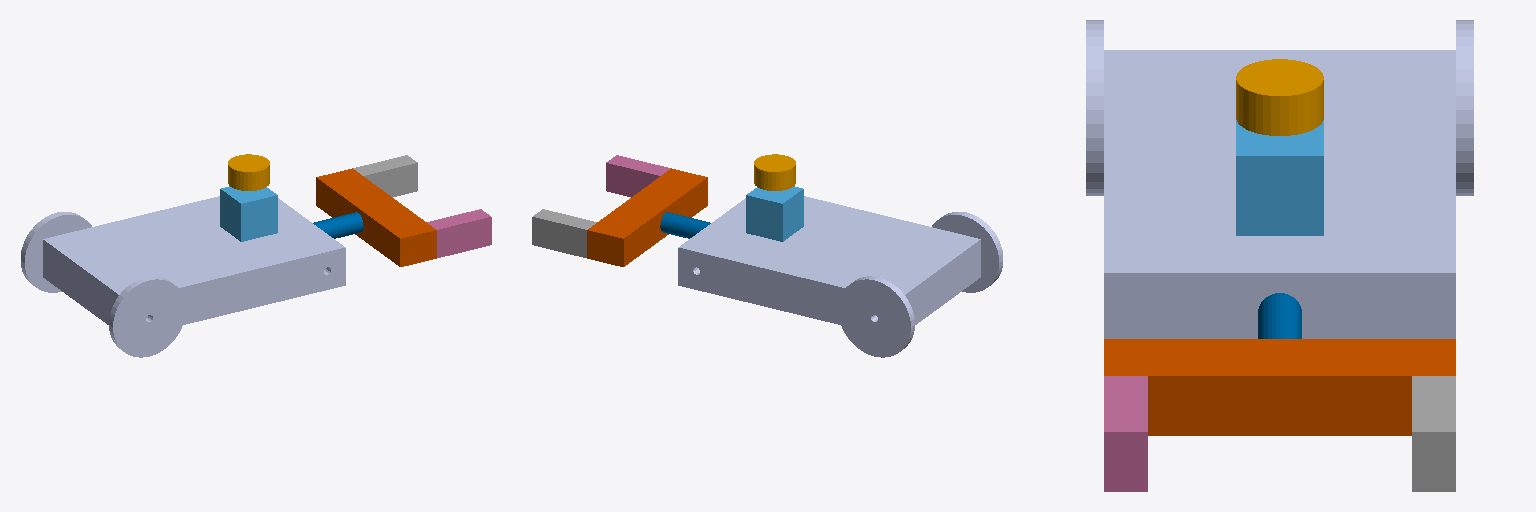
robot.urdf — my_robot:
<?xml version="1.0" encoding="utf-8"?>
<!-- This URDF was automatically created by SolidWorks to URDF Exporter! Originally created by [author] ([email redacted]) 
     Commit Version: 1.6.0-1-g15f4949  Build Version: 1.6.7594.29634
     For more information, please see http://wiki.ros.org/sw_urdf_exporter -->
<robot
  name="my_robot">

  <gazebo reference="base_link">
    <material>Gazebo/Orange</material>
  </gazebo>
  <gazebo reference="Left_Link">
    <material>Gazebo/SkyBlue</material>
  </gazebo>
  <gazebo reference="Right_Link">
    <material>Gazebo/SkyBlue</material>
  </gazebo>
  <gazebo reference="Sensor_Laser">
    <material>Gazebo/SkyBlue</material>
  </gazebo>

  <link
    name="base_link">
    <inertial>
      <origin
        xyz="-0.001672 -1.1716E-17 0.050348"
        rpy="0 0 0" />
      <mass
        value="5" />
      <inertia
        ixx="0.33621"
        ixy="1.0274E-16"
        ixz="-0.0012409"
        iyy="0.7179"
        iyz="1.369E-17"
        izz="1.0147" />
    </inertial>
    <visual>
      <origin
        xyz="0 0 0"
        rpy="0 0 0" />
      <geometry>
        <mesh
          filename="package://auto_test/meshes/base_link.STL" />
      </geometry>
      <material
        name="">
        <color
          rgba="0.79216 0.81961 0.93333 1" />
      </material>
    </visual>
    <collision>
      <origin
        xyz="0 0 0"
        rpy="0 0 0" />
      <geometry>
        <mesh
          filename="package://auto_test/meshes/base_link.STL" />
      </geometry>
    </collision>
  </link>
  <link
    name="Left_Link">
    <inertial>
      <origin
        xyz="-0.01 0 -5.5511E-17"
        rpy="0 0 0" />
      <mass
        value="0.62204" />
      <inertia
        ixx="0.0031413"
        ixy="4.4128E-20"
        ixz="1.7802E-20"
        iyy="0.0015914"
        iyz="1.3553E-19"
        izz="0.0015914" />
    </inertial>
    <visual>
      <origin
        xyz="0 0 0"
        rpy="0 0 0" />
      <geometry>
        <mesh
          filename="package://auto_test/meshes/L_Link.STL" />
      </geometry>
      <material
        name="">
        <color
          rgba="0.79216 0.81961 0.93333 1" />
      </material>
    </visual>
    <collision>
      <origin
        xyz="0 0 0"
        rpy="0 0 0" />
      <geometry>
        <mesh
          filename="package://auto_test/meshes/L_Link.STL" />
      </geometry>
    </collision>
  </link>
  <joint
    name="Left_Joint"
    type="continuous">
    <origin
      xyz="-0.25 -0.2 0.05"
      rpy="1.7983 0 1.5708" />
    <parent
      link="base_link" />
    <child
      link="Left_Link" />
    <axis
      xyz="1 0 0" />
  </joint>
  <link
    name="Right_Link">
    <inertial>
      <origin
        xyz="0.01 0 -5.5511E-17"
        rpy="0 0 0" />
      <mass
        value="0.62204" />
      <inertia
        ixx="0.0031413"
        ixy="3.9891E-20"
        ixz="9.4367E-21"
        iyy="0.0015914"
        iyz="1.3553E-19"
        izz="0.0015914" />
    </inertial>
    <visual>
      <origin
        xyz="0 0 0"
        rpy="0 0 0" />
      <geometry>
        <mesh
          filename="package://auto_test/meshes/R_Link.STL" />
      </geometry>
      <material
        name="">
        <color
          rgba="0.79216 0.81961 0.93333 1" />
      </material>
    </visual>
    <collision>
      <origin
        xyz="0 0 0"
        rpy="0 0 0" />
      <geometry>
        <mesh
          filename="package://auto_test/meshes/R_Link.STL" />
      </geometry>
    </collision>
  </link>
  <joint
    name="Right_Joint"
    type="continuous">
    <origin
      xyz="-0.25 0.2 0.05"
      rpy="1.7983 0 1.5708" />
    <parent
      link="base_link" />
    <child
      link="Right_Link" />
    <axis
      xyz="1 0 0" />
  </joint>
  <link
    name="Castor_Link">
    <inertial>
      <origin
        xyz="7.043E-16 -7.3552E-16 5.2736E-16"
        rpy="0 0 0" />
      <mass
        value="0.5236" />
      <inertia
        ixx="0.0005236"
        ixy="-1.3553E-20"
        ixz="0"
        iyy="0.0005236"
        iyz="2.7105E-20"
        izz="0.0005236" />
    </inertial>
    <visual>
      <origin
        xyz="0 0 0"
        rpy="0 0 0" />
      <geometry>
        <mesh
          filename="package://auto_test/meshes/Castor_Link.STL" />
      </geometry>
      <material
        name="">
        <color
          rgba="0.79216 0.81961 0.93333 1" />
      </material>
    </visual>
    <collision>
      <origin
        xyz="0 0 0"
        rpy="0 0 0" />
      <geometry>
        <mesh
          filename="package://auto_test/meshes/Castor_Link.STL" />
      </geometry>
    </collision>
  </link>
  <joint
    name="Castor_Joint"
    type="continuous">
    <origin
      xyz="0.15 0 0"
      rpy="2.4146 -0.79692 -1.7817" />
    <parent
      link="base_link" />
    <child
      link="Castor_Link" />
    <axis
      xyz="0.68342 -0.62124 0.3834" />
    <dynamics
      damping="0"
      friction="0" />
  </joint>

  <link name="gripper_extension">
   <inertial>
      <mass value="0.5"/>
      <origin rpy="0 1.57075 0" xyz="0 0 0"/>
      <inertia ixx="0.00203125" ixy="0" ixz="0" iyy="0.00203125" iyz="0" izz="0.0003125"/>
    </inertial>
    <collision>
      <geometry>
        <cylinder length="0.15" radius="0.025"/>
      </geometry>
      <origin rpy="0 1.57075 0" xyz="0 0 0"/>
    </collision>
    <visual>
      <geometry>
        <cylinder length="0.15" radius="0.025"/>
      </geometry>
      <origin rpy="0 1.57075 0" xyz="0 0 0"/>
      <material name="white"/>
    </visual>
  </link>

  <joint name="base_to_gripper_extension" type="fixed">
    <parent link="base_link"/>
    <child link="gripper_extension"/>
    <origin xyz="0.375 0 0.05"/>
  </joint>

  <link name="gripper">
   <inertial>
      <mass value="1"/>
      <origin rpy="0 1.57075 0" xyz="0 0 0"/>
      <inertia ixx="0.00333333333333" ixy="0" ixz="0" iyy="0.0283333333333" iyz="0" izz="0.0283333333333"/>
    </inertial>
    <collision>
      <geometry>
        <box size="0.1 0.4 0.075"/>
      </geometry>
    </collision>
    <visual>
      <geometry>
        <box size="0.1 0.4 0.075"/>
      </geometry>
      <material name="blue"/>
    </visual>
  </link>
  <joint name="gripper_extension_to_gripper" type="fixed">
    <parent link="gripper_extension"/>
    <child link="gripper"/>
    <origin xyz="0.125 0 0"/>
  </joint> 
  <link name="gripper_left_hand">
   <inertial>
      <mass value="0.5"/>
      <origin rpy="0 1.57075 0" xyz="0 0 0"/>
      <inertia ixx="0.00270833333333" ixy="0" ixz="0" iyy="0.00104166666667" iyz="0" izz="0.00208333333333"/>
    </inertial>
    <collision>
      <geometry>
        <box size="0.15 0.05 0.075"/>
      </geometry>
    </collision>
    <visual>
      <geometry>
        <box size="0.15 0.05 0.075"/>
      </geometry>
      <material name="white"/>
    </visual>
  </link>
  <joint name="gripper_to_gripper_left_hand" type="prismatic">
    <parent link="gripper"/>
    <child link="gripper_left_hand"/>
    <limit effort="1000.0" lower="0.0" upper="0.05" velocity="0.1"/>
    <axis xyz="0 1 0"/>
    <origin xyz="0.125 -0.175 0"/>
  </joint>
  <link name="gripper_right_hand">
   <inertial>
      <mass value="0.5"/>
      <origin rpy="0 1.57075 0" xyz="0 0 0"/>
      <inertia ixx="0.00270833333333" ixy="0" ixz="0" iyy="0.00104166666667" iyz="0" izz="0.00208333333333"/>
    </inertial>
    <collision>
      <geometry>
        <box size="0.15 0.05 0.075"/>
      </geometry>
    </collision>
    <visual>
      <geometry>
        <box size="0.15 0.05 0.075"/>
      </geometry>
      <material name="white"/>
    </visual>
  </link>
  <joint name="gripper_to_gripper_right_hand" type="prismatic">
    <parent link="gripper"/>
    <child link="gripper_right_hand"/>
    <limit effort="1000.0" lower="-0.05" upper="0" velocity="0.1"/>
    <axis xyz="0 1 0"/>
    <origin xyz="0.125 0.175 0"/>
  </joint> 

  <link name="Sensor_Laser">
    <inertial>
      <origin xyz="0 0 0" rpy="0 0 0" />
      <mass value="1" />
      <inertia ixx="0.00145833333333" ixy="0" ixz="0" iyy="0.00145833333333" iyz="0" izz="0.00125"/>
    </inertial>

    <visual>
      <origin xyz="0 0 0" rpy="0 0 0" />
      <geometry>
        <cylinder radius="0.05" length="0.05"/>
      </geometry>
      <material name="white" />
    </visual>

    <collision>
      <origin xyz="0 0 0" rpy="0 0 0"/>
      <geometry>
        <cylinder radius="0.05" length="0.1"/>
      </geometry>
    </collision>
  </link>

  <joint name="joint_sensor_laser" type="fixed">
    <origin xyz="0.15 0 0.25" rpy="0 0 0"/>
    <parent link="base_link"/>
    <child link="Sensor_Laser"/>
  </joint>
    
    <link name="camera_link">
   <inertial>
      <mass value="0.5"/>
      <origin rpy="0 0 0" xyz="0 0 0"/>
      <inertia ixx="0.00270833333333" ixy="0" ixz="0" iyy="0.00104166666667" iyz="0" izz="0.00208333333333"/>
    </inertial>
    <collision>
      <geometry>
        <box size="0.1 0.1 0.1"/>
      </geometry>
    </collision>
    <visual>
      <geometry>
        <box size="0.1 0.1 0.1"/>
      </geometry>
      <material name="white"/>
    </visual>
  </link>

  <joint name="joint_sensor_camera" type="fixed">
    <origin xyz="0.15 0 0.15" rpy="0 0 0"/>
    <parent link="base_link"/>
    <child link="camera_link"/>
  </joint>

  <gazebo>
    <plugin filename="libgazebo_ros_diff_drive.so" name="differential_drive_controller">
      <alwaysOn>true</alwaysOn>
      <updateRate>20</updateRate>
      <leftJoint>Left_Joint</leftJoint>
      <rightJoint>Right_Joint</rightJoint>
      <wheelSeparation>0.4</wheelSeparation>
      <wheelDiameter>0.2</wheelDiameter>
      <torque>100</torque>
      <commandTopic>cmd_vel</commandTopic>
      <odometryTopic>odom</odometryTopic>
      <odometryFrame>odom</odometryFrame>
      <robotBaseFrame>base_link</robotBaseFrame>
    </plugin>
  </gazebo>

  <gazebo reference="Sensor_Laser">
    <sensor type="ray" name="head_hokuyo_sensor">
      <pose>0 0 0 0 0 0</pose>
      <visualize>false</visualize>
      <update_rate>20</update_rate>
      <ray>
        <scan>
          <horizontal>
            <samples>720</samples>
            <resolution>1</resolution>
            <min_angle>-1.570796</min_angle>
            <max_angle>1.570796</max_angle>
          </horizontal>
        </scan>
        <range>
          <min>0.10</min>
          <max>10.0</max>
          <resolution>0.01</resolution>
        </range>
        <noise>
          <type>gaussian</type>
          <mean>0.0</mean>
          <stddev>0.01</stddev>
        </noise>
      </ray>
      <plugin name="gazebo_ros_head_hokuyo_controller" filename="libgazebo_ros_laser.so">
        <topicName>/robot/laser/scan</topicName>
        <frameName>Sensor_Laser</frameName>
      </plugin>
    </sensor>
  </gazebo>

  <gazebo reference="camera_link">
    <sensor type="camera" name="camera1">
      <update_rate>30.0</update_rate>
      <camera name="head">
        <horizontal_fov>1.3962634</horizontal_fov>
        <image>
          <width>800</width>
          <height>800</height>
          <format>R8G8B8</format>
        </image>
        <clip>
          <near>0.02</near>
          <far>300</far>
        </clip>
        <noise>
          <type>gaussian</type>
          <!-- Noise is sampled independently per pixel on each frame.
               That pixel's noise value is added to each of its color
               channels, which at that point lie in the range [0,1]. -->
          <mean>0.0</mean>
          <stddev>0.007</stddev>
        </noise>
      </camera>
      <plugin name="camera_controller" filename="libgazebo_ros_camera.so">
        <alwaysOn>true</alwaysOn>
        <updateRate>0.0</updateRate>
        <cameraName>robot/camera1</cameraName>
        <imageTopicName>image_raw</imageTopicName>
        <cameraInfoTopicName>camera_info</cameraInfoTopicName>
        <frameName>camera_link</frameName>
        <hackBaseline>0.07</hackBaseline>
        <distortionK1>0.0</distortionK1>
        <distortionK2>0.0</distortionK2>
        <distortionK3>0.0</distortionK3>
        <distortionT1>0.0</distortionT1>
        <distortionT2>0.0</distortionT2>
      </plugin>
    </sensor>
  </gazebo>

</robot>

--- Render facts (derived) ---
3 views of the same robot in one strip: view 1: azimuth 30°, elevation 25°; view 2: azimuth 150°, elevation 25°; view 3: azimuth 270°, elevation 25° (orthographic).
Model my_robot with 10 links and 9 joints (3 continuous, 2 prismatic, 4 fixed), rooted at base_link, posed all joints at 0.
Links seen in each view (by area): view 1: base_link, gripper, Left_Link, camera_link, Right_Link, gripper_left_hand, gripper_right_hand, Sensor_Laser, gripper_extension; view 2: base_link, gripper, Right_Link, camera_link, Left_Link, gripper_right_hand, gripper_left_hand, Sensor_Laser, gripper_extension; view 3: base_link, gripper, camera_link, Sensor_Laser, gripper_left_hand, gripper_right_hand, Left_Link, Right_Link, gripper_extension.
Boxes of the visible links, bbox=[...] form: base_link: bbox=[43, 196, 345, 324]; gripper: bbox=[316, 168, 436, 266]; Left_Link: bbox=[109, 276, 185, 357]; camera_link: bbox=[220, 186, 277, 241]; Right_Link: bbox=[21, 212, 91, 292]; gripper_left_hand: bbox=[427, 209, 491, 257]; gripper_right_hand: bbox=[353, 155, 417, 197]; Sensor_Laser: bbox=[228, 154, 269, 190]; gripper_extension: bbox=[313, 212, 363, 238]; base_link: bbox=[678, 196, 980, 324]; gripper: bbox=[587, 168, 707, 266]; Right_Link: bbox=[838, 276, 914, 357]; camera_link: bbox=[746, 186, 803, 241]; Left_Link: bbox=[932, 212, 1002, 292]; gripper_right_hand: bbox=[532, 209, 596, 257]; gripper_left_hand: bbox=[606, 155, 670, 197]; Sensor_Laser: bbox=[754, 154, 795, 190]; gripper_extension: bbox=[660, 212, 710, 238]; base_link: bbox=[1104, 50, 1455, 338]; gripper: bbox=[1104, 339, 1455, 435]; camera_link: bbox=[1236, 120, 1323, 235]; Sensor_Laser: bbox=[1236, 59, 1323, 135]; gripper_left_hand: bbox=[1104, 376, 1147, 491]; gripper_right_hand: bbox=[1412, 376, 1455, 491]; Left_Link: bbox=[1086, 20, 1103, 195]; Right_Link: bbox=[1456, 20, 1473, 195]; gripper_extension: bbox=[1258, 293, 1301, 338].
Bounding box of the posed robot: 1.05 × 0.44 × 0.3249 m (x, y, z).
Meshes: 4 distinct files referenced, 4 mesh visuals loaded (4 binary STL).
